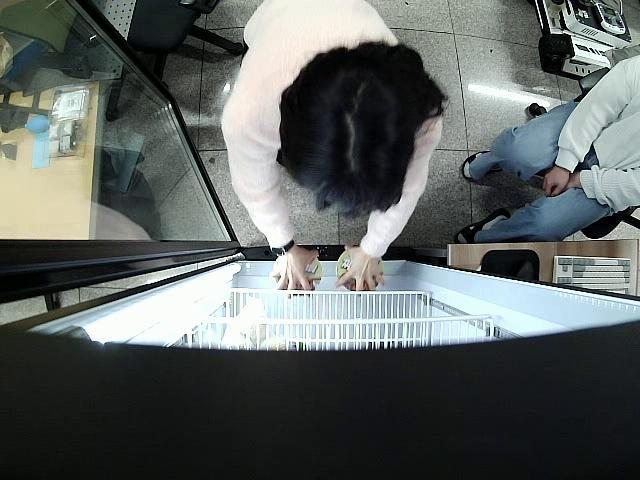03_chapagetti_L: (338, 250, 383, 292), (276, 253, 321, 294)
